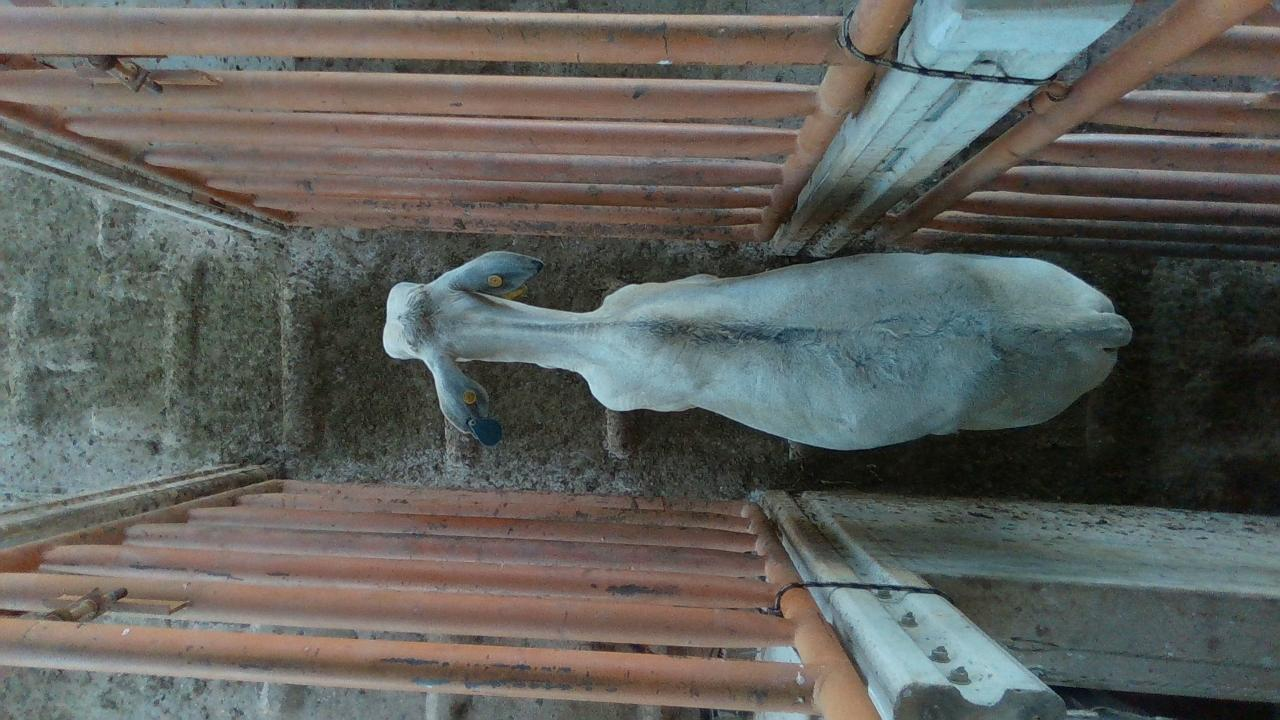cattle: (380, 246, 1133, 455)
